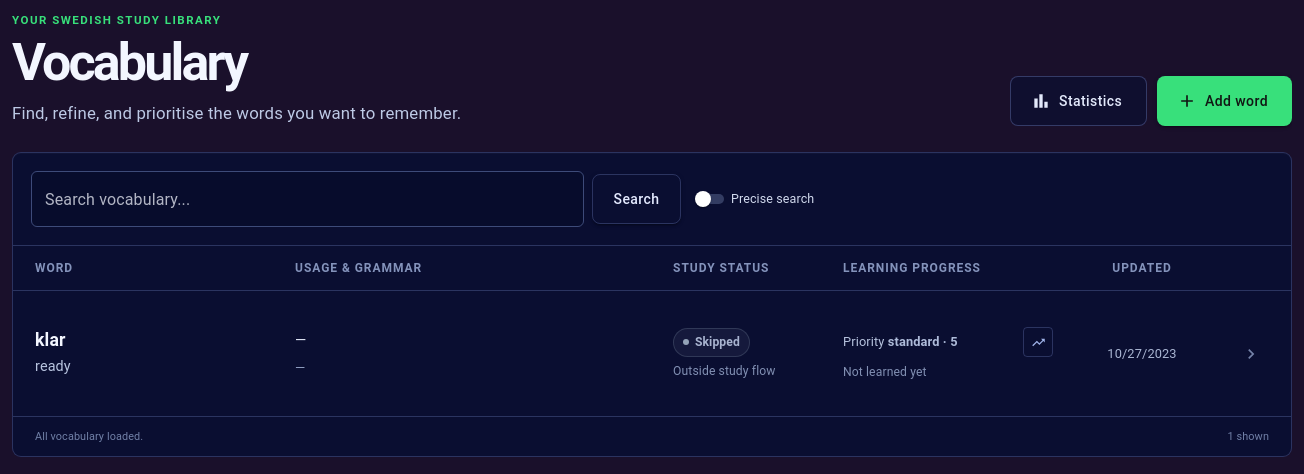
VocabularyView › prevents duplicate boost requests while an update is in flight
Click the button named "Boost priority for klar": coordinates (1038, 342) x1=1023 y1=327 x2=1053 y2=357
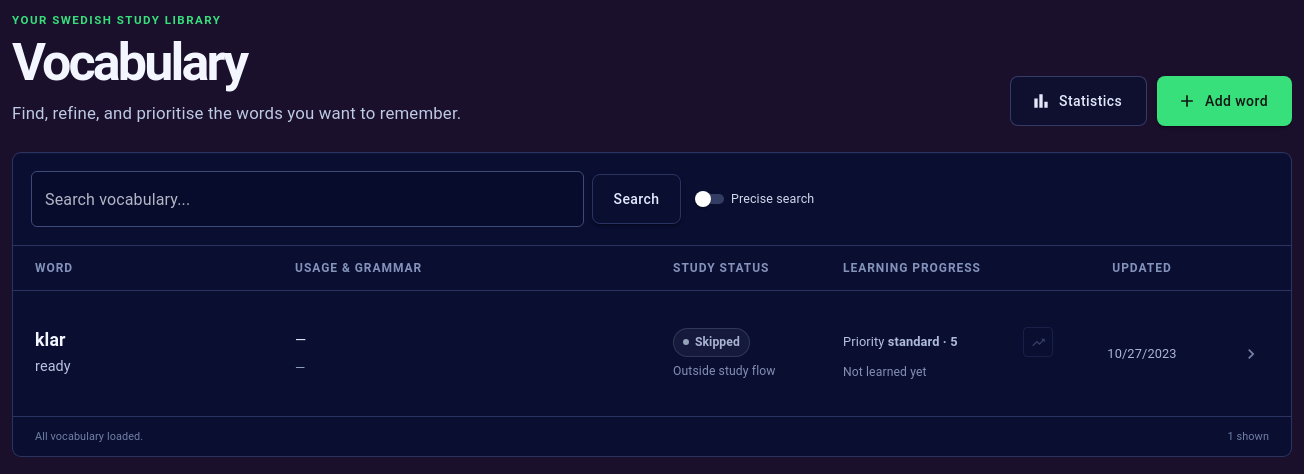
Expected: the button named "Boost priority for klar" is disabled
Click the button named "Boost priority for klar": coordinates (1038, 342) x1=1023 y1=327 x2=1053 y2=357
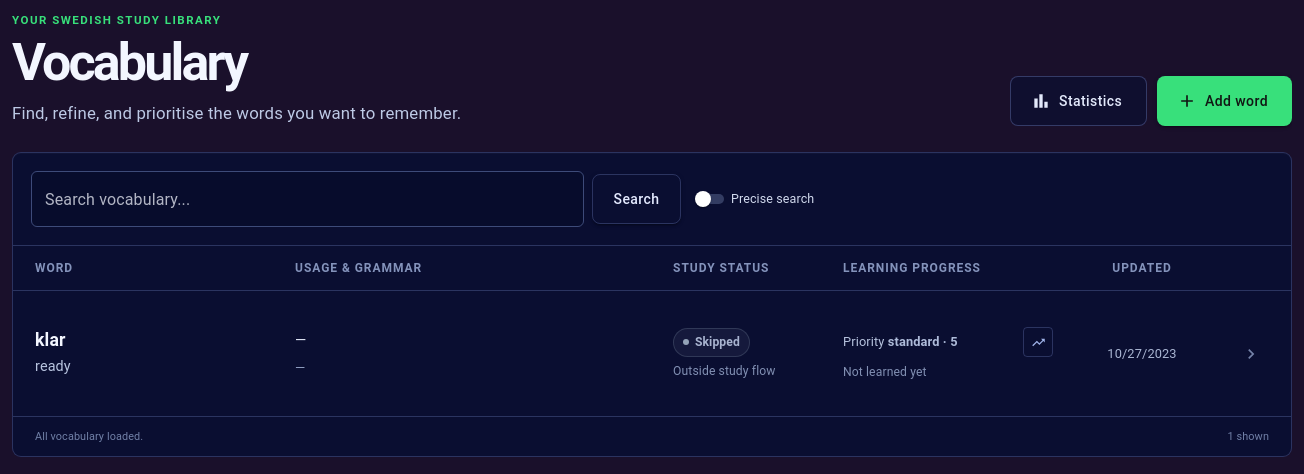
Expected: the button named "Boost priority for klar" is enabled, x1=1023 y1=327 x2=1053 y2=357
